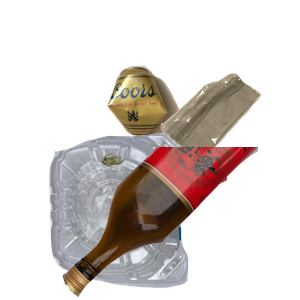glass: (60, 147, 300, 300)
metal: (105, 63, 300, 192)
plastic: (46, 130, 227, 300)
trash: (158, 71, 300, 227)
